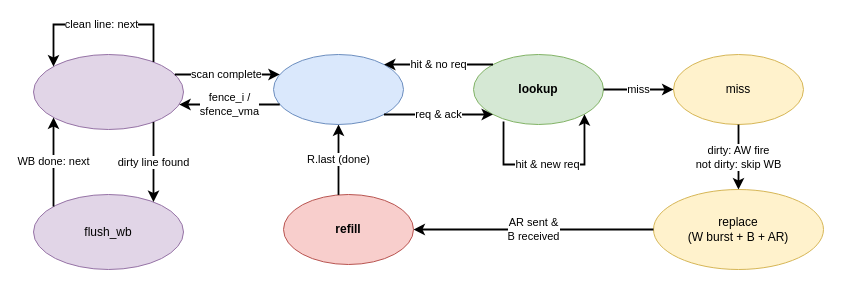
Some shapes in this 841 by 288 pixel diagram are drawn without their labels. Here are the shapes that lost their labels. From the top down, the box of each, then its label:
(32, 54, 184, 130): flush_scan
(272, 54, 404, 124): idle
